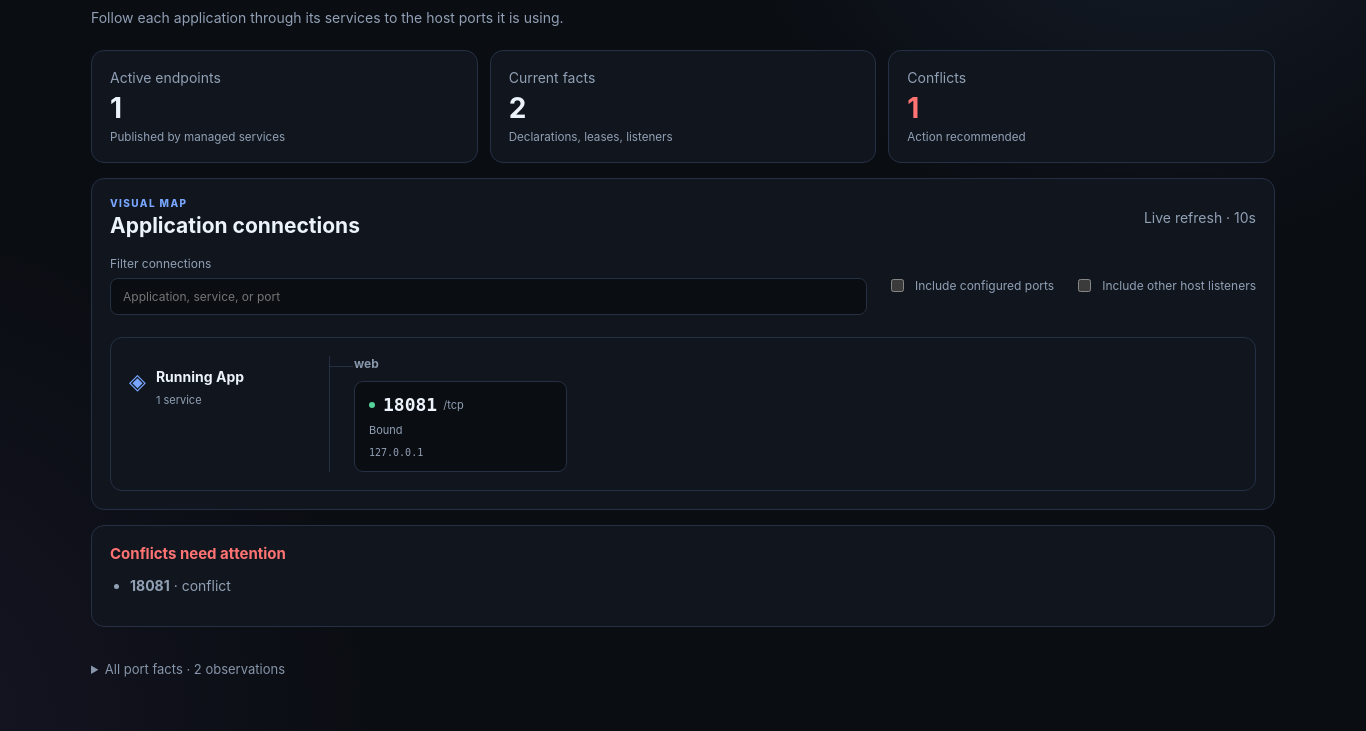
it: renders conflict provenance and a current free-port suggestion
The width and height of the screenshot is (1366, 731).
(page scrolled)
Expected: the heading "Application connections" is shown, top-left (110, 213), bottom-right (360, 238)
Click the heading "All port facts · 2 observations". click: (195, 669)
box: top-left (105, 661), bottom-right (285, 677)
(page scrolled)
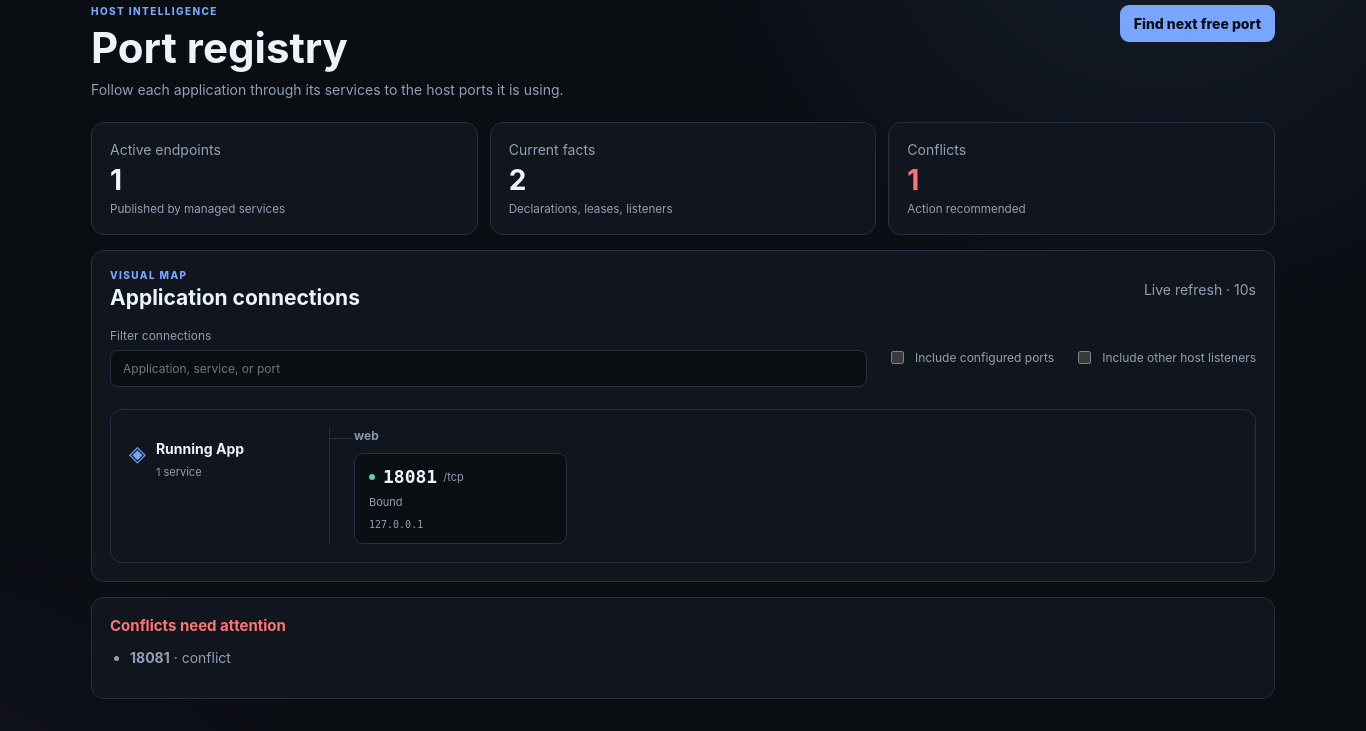
Expected: the element named "Port conflicts" shows "18081 · conflict", top-left (91, 597), bottom-right (1275, 699)
Click the button "Find next free port". click: (1197, 24)
box: top-left (1120, 5), bottom-right (1275, 42)
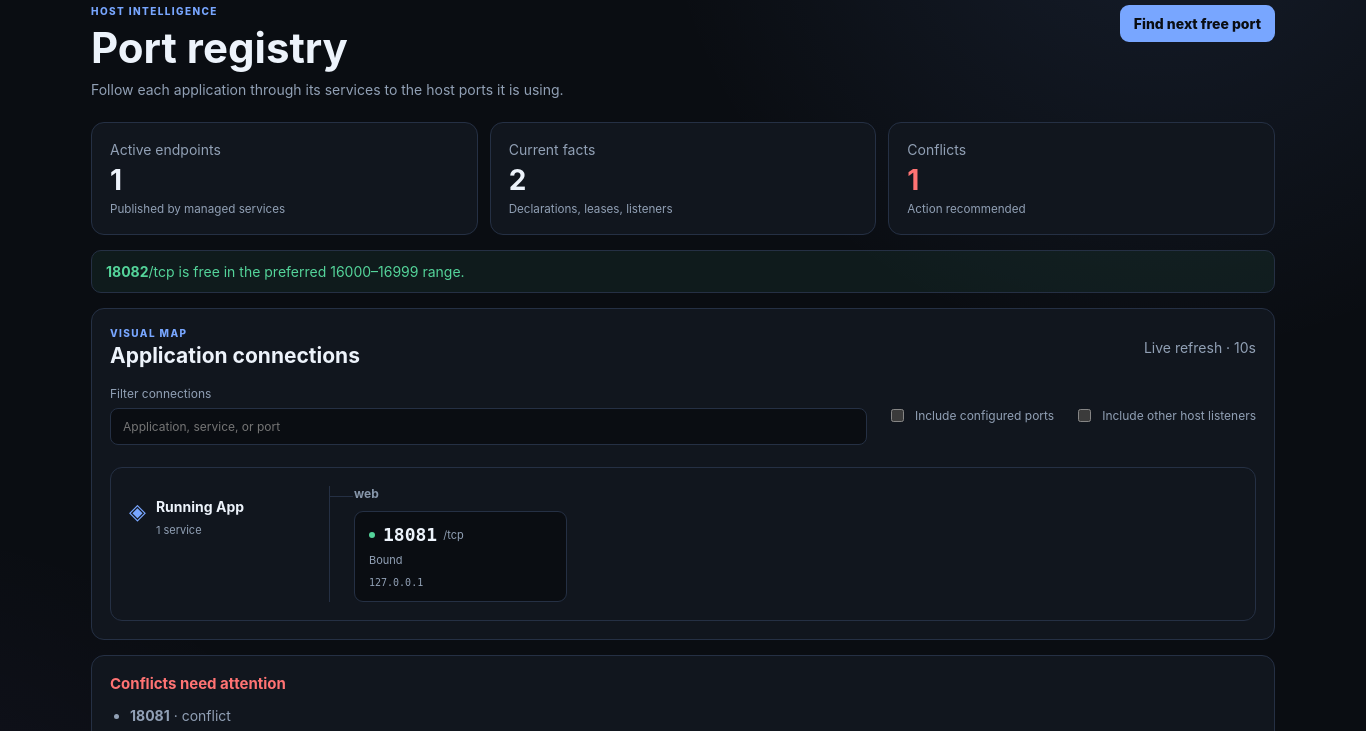
Result: the text "18082" is shown at top-left (106, 263), bottom-right (148, 280)
Result: the text "18082/tcp is free in the preferred 16000–16999 range." is shown at top-left (91, 250), bottom-right (1275, 293)
